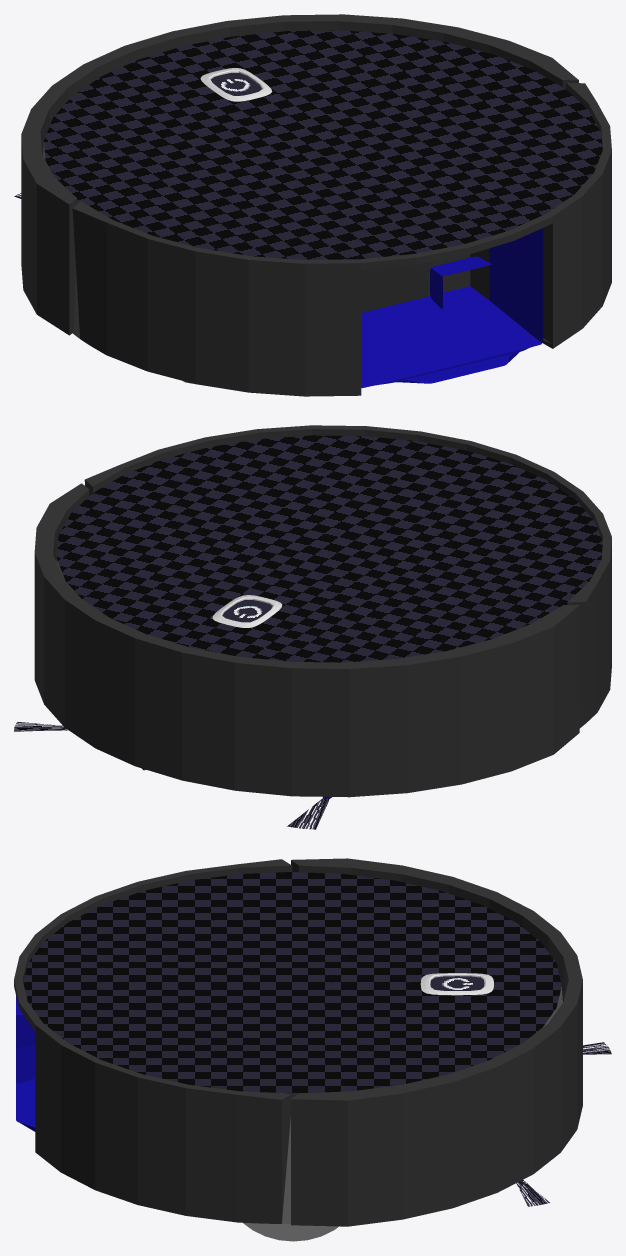
File: roomba.glb
3 renders of one model, top to bottom at view 1: azimuth 30°, elevation 25°; view 2: azimuth 150°, elevation 25°; view 3: azimuth 270°, elevation 25°, orthographic. The views are drawn at different scales.
Parts seen in each view (by area): view 1: Main Body, Bumper, Dust bin, Power button Ridge, P. Button Icon; view 2: Main Body, Bumper, Power button Ridge, P. Button Icon, Double Brush; view 3: Main Body, Bumper, Dust bin, Wheels, Power button Ridge, P. Button Icon.
Boxes of the visible parts, bbox=[...] form: Main Body: bbox=[43, 30, 611, 396]; Bumper: bbox=[21, 14, 578, 335]; Dust bin: bbox=[361, 228, 543, 388]; Power button Ridge: bbox=[200, 68, 272, 101]; P. Button Icon: bbox=[211, 73, 261, 95]; Main Body: bbox=[56, 425, 611, 728]; Bumper: bbox=[34, 483, 579, 797]; Power button Ridge: bbox=[212, 595, 282, 627]; P. Button Icon: bbox=[222, 600, 272, 622]; Double Brush: bbox=[287, 796, 331, 829]; Main Body: bbox=[14, 859, 562, 1223]; Bumper: bbox=[291, 858, 582, 1226]; Dust bin: bbox=[16, 996, 35, 1131]; Wheels: bbox=[243, 1223, 338, 1241]; Power button Ridge: bbox=[420, 973, 493, 995]; P. Button Icon: bbox=[430, 976, 484, 990].
Size of the model in its own units: 4.12 by 1.54 by 4.3.
9 materials, 3 textured.
